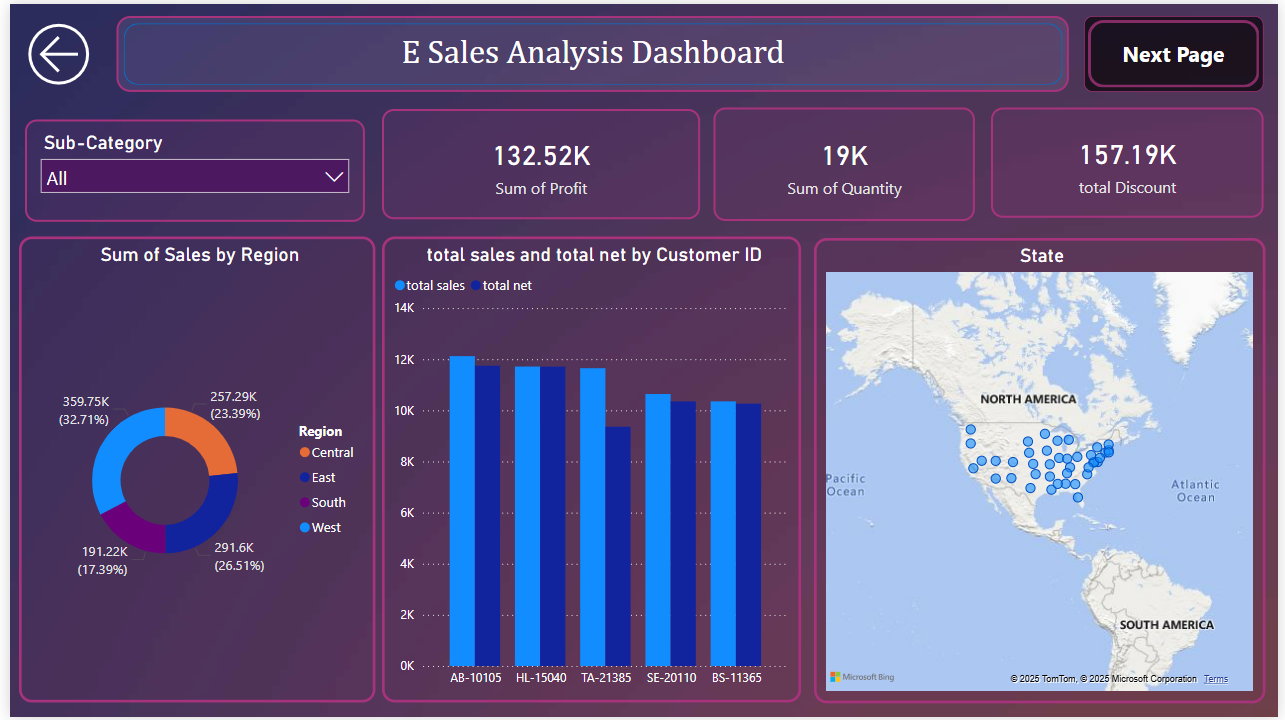

What the dashboard file says about the page in this screenshot:
{"tool":"powerbi","page":{"name":"Page 2","canvas":[1280,720],"ordinal":1},"visuals":[{"type":"actionButton","box":[1084.8,12.7,181.3,76.3],"z":2000},{"type":"clusteredColumnChart","fields":{"Y":["measure.total sales","measure.total net"],"Category":["Customer.Customer ID"]},"box":[375.4,235.4,423.1,470.8],"z":4000},{"type":"shape","box":[108.2,12.7,962.3,76.3],"z":5000},{"type":"actionButton","box":[10.2,12.2,99.6,77.2],"z":6000},{"type":"card","fields":{"Values":["Orders.total Discount"]},"box":[991,105,275.2,111.3],"z":7000},{"type":"map","fields":{"Category":["Customer.State"]},"box":[811.2,235.4,469.2,470.8],"z":7001},{"type":"donutChart","fields":{"Category":["Customer.Region"],"Y":["Sum(Orders.Sales)"]},"box":[9,235.4,360,470.8],"z":7002},{"type":"card","fields":{"Values":["Sum(Orders.Quantity)"]},"box":[711,105,264,114.5],"z":7003},{"type":"slicer","fields":{"Values":["Product.Sub-Category"]},"box":[15.9,116.1,343.6,103.4],"z":7005},{"type":"card","fields":{"Values":["Sum(Orders.Profit)"]},"box":[375.4,106.6,321.3,111.3],"z":7006}]}

Visuals, with their boxes in screenshot pixels (x1, y1, x2, y2), scaled from the page's 1280x720 canvas onto the 1285x720 screenshot:
actionButton: [x1=1089, y1=13, x2=1271, y2=89]
clusteredColumnChart - measure.total sales x measure.total net: [x1=377, y1=235, x2=802, y2=706]
shape: [x1=109, y1=13, x2=1075, y2=89]
actionButton: [x1=10, y1=12, x2=110, y2=89]
card - Orders.total Discount: [x1=995, y1=105, x2=1271, y2=216]
map - Customer.State: [x1=814, y1=235, x2=1284, y2=706]
donutChart - Customer.Region x Sum(Orders.Sales): [x1=9, y1=235, x2=370, y2=706]
card - Sum(Orders.Quantity): [x1=714, y1=105, x2=979, y2=220]
slicer - Product.Sub-Category: [x1=16, y1=116, x2=361, y2=220]
card - Sum(Orders.Profit): [x1=377, y1=107, x2=699, y2=218]
